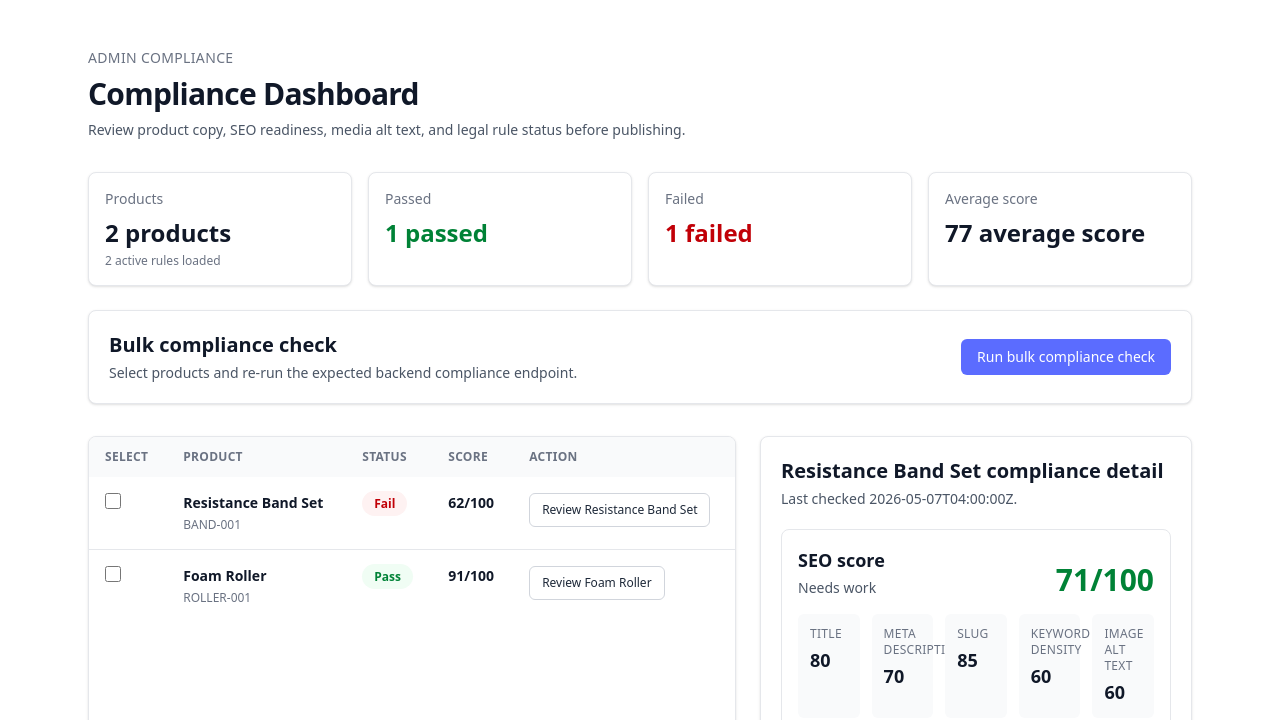
Scenario: ComplianceDashboard › runs a bulk compliance check for selected products and updates the summary
Click the checkbox named "select resistance band set". click: (113, 501)
box: [105,493,121,509]
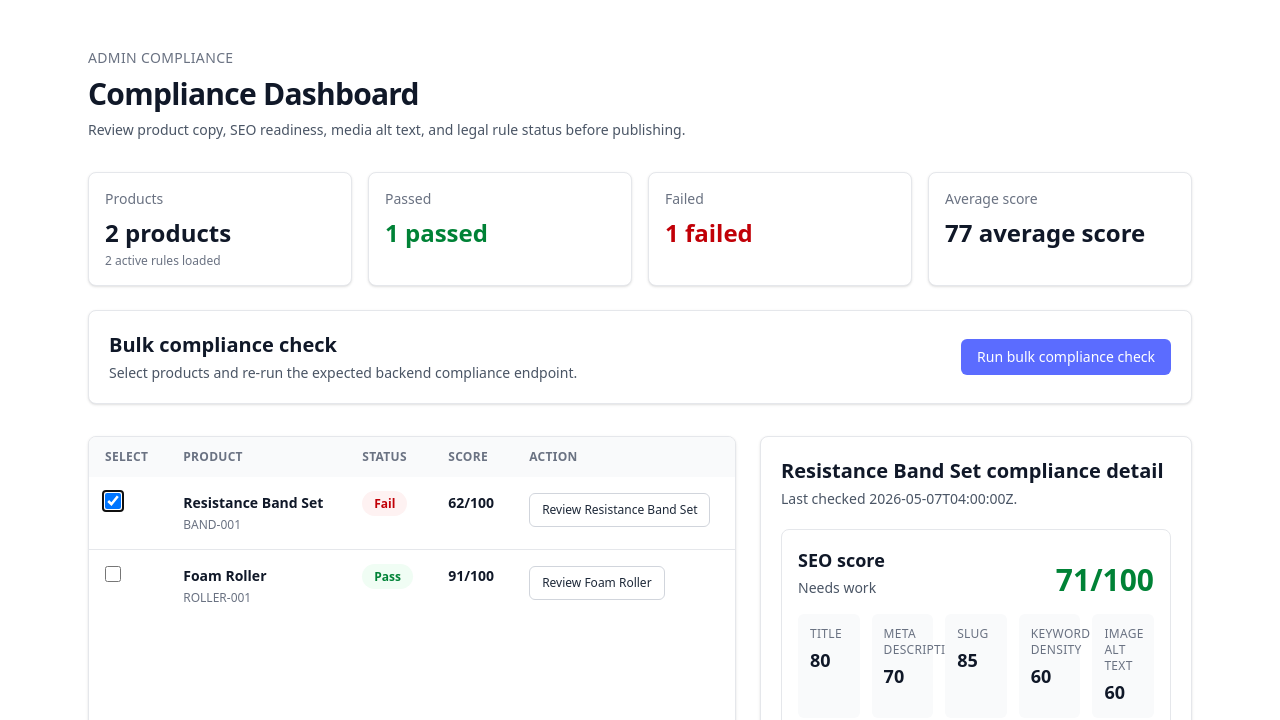
Click the checkbox named "select foam roller". click: (113, 574)
box: [105,566,121,582]
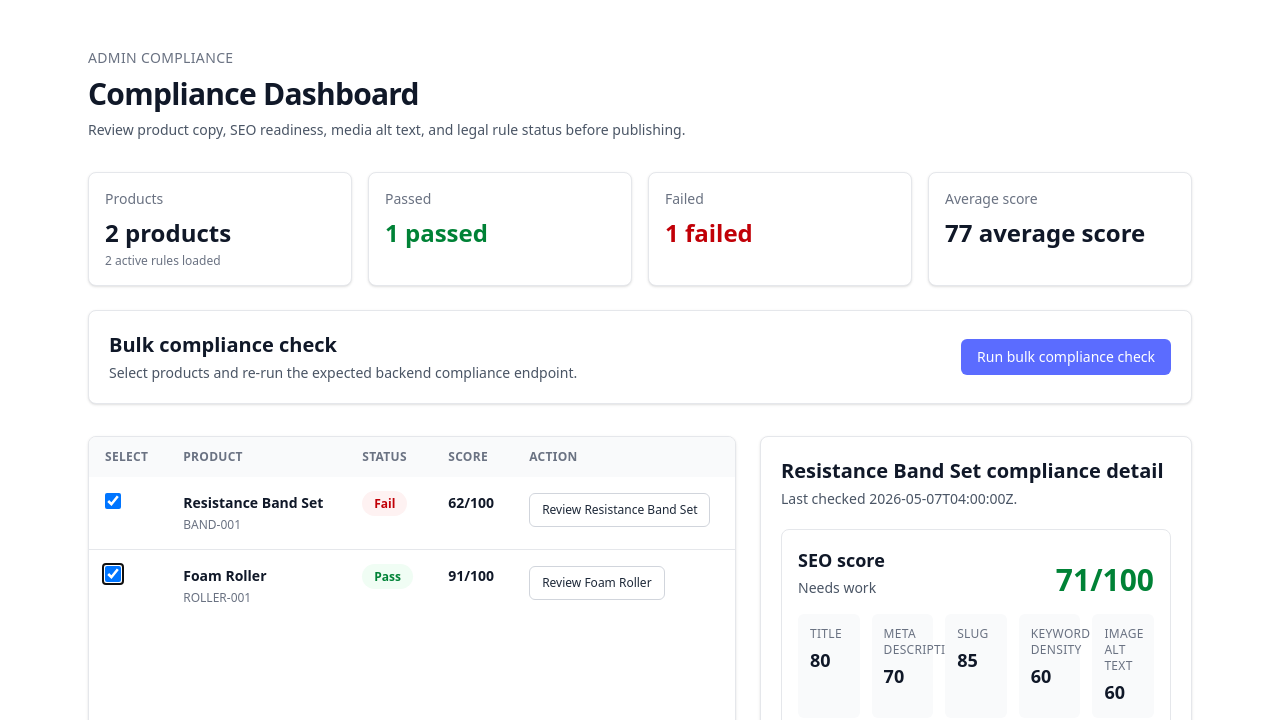
Click the button "Run bulk compliance check". click: (1066, 357)
box: [961,339,1171,375]
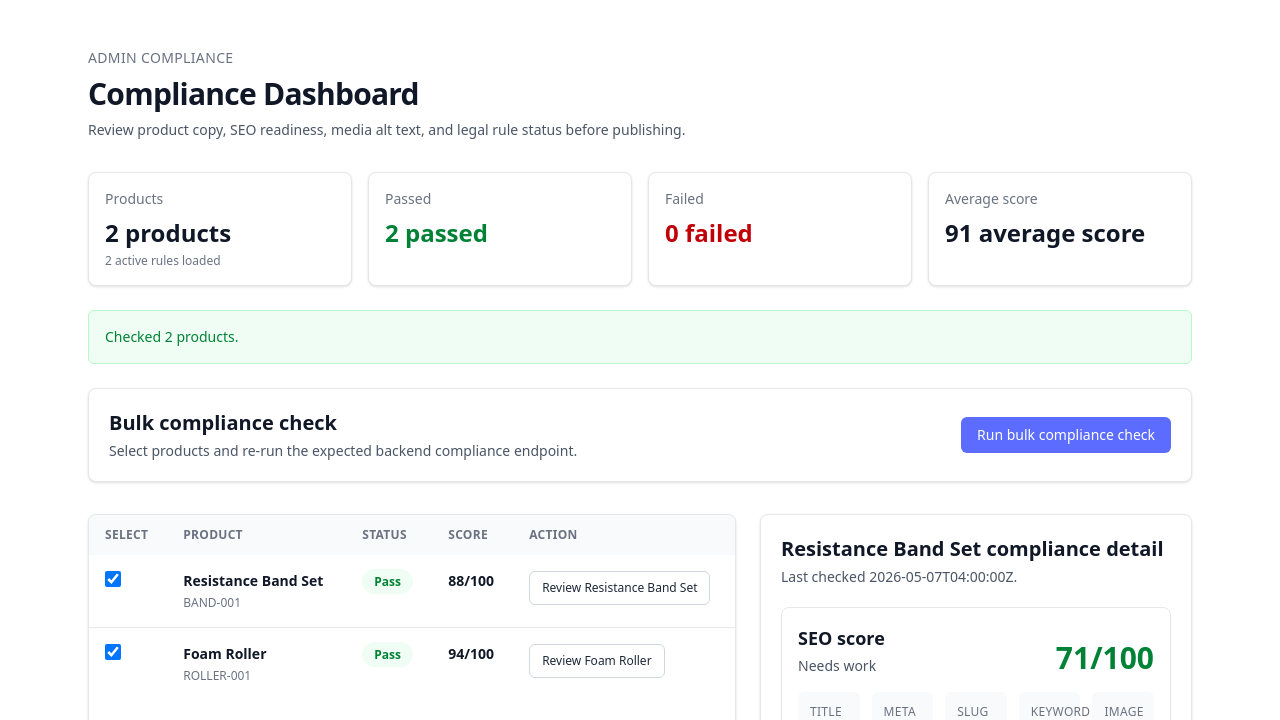
Now the message shows "Checked 2 products", box [105,327,238,346]
Now the text "2 passed" is shown, box [385,216,488,249]
Now the text "1 failed" is gone
